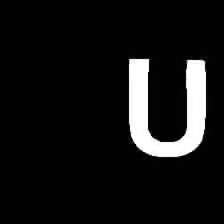LTR_U: (115, 47, 214, 164)
